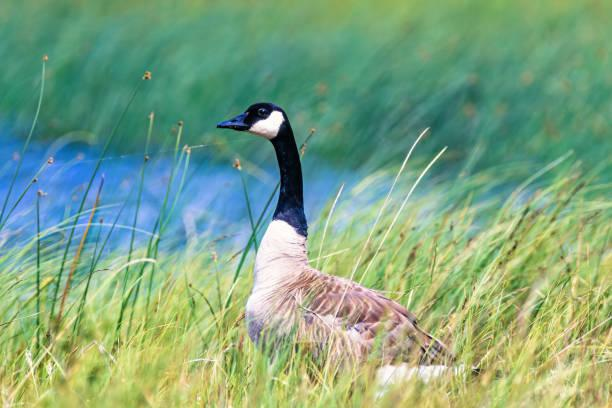Canadian-Goose: (214, 102, 468, 373)
